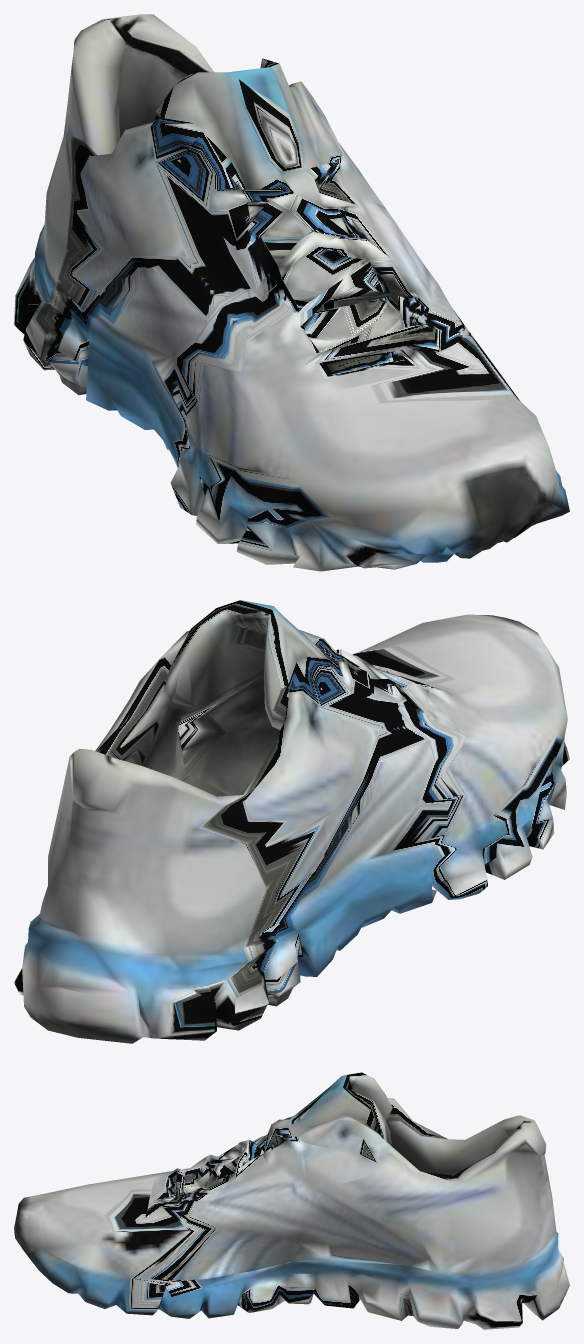
The model's file is gso_reebok_realflex_select.glb.
3 renders of one model, top to bottom at view 1: azimuth 30°, elevation 25°; view 2: azimuth 150°, elevation 25°; view 3: azimuth 270°, elevation 25°, orthographic. The views are drawn at different scales.
Visible parts, largest first — view 1: z-up-to-y-up; view 2: z-up-to-y-up; view 3: z-up-to-y-up.
Part boxes in pixels (left/top/right/bottom): z-up-to-y-up: left=14, top=14, right=569, bottom=571; z-up-to-y-up: left=14, top=600, right=569, bottom=1043; z-up-to-y-up: left=14, top=1072, right=569, bottom=1329.
Bounding box in the file's own units: 0.1113 × 0.1294 × 0.2996.
Materials: 1 (1 with a texture image).
